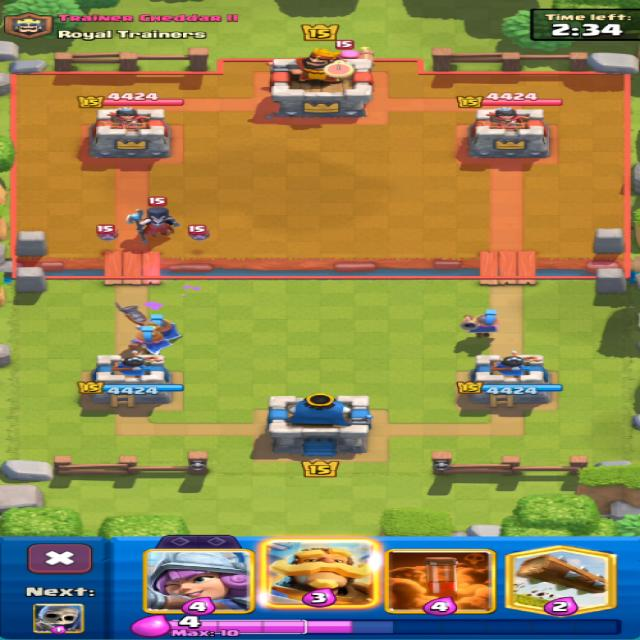Enemy-Bat: (188, 225, 209, 241), (97, 224, 116, 241)
Enemy-Firecracker: (340, 47, 374, 59)
Enemy-KingTower: (270, 49, 371, 116)
Enemy-NightWitch: (127, 207, 178, 239)
Enemy-PrincessTower: (90, 106, 170, 158), (468, 107, 549, 158), (196, 234, 199, 236)
